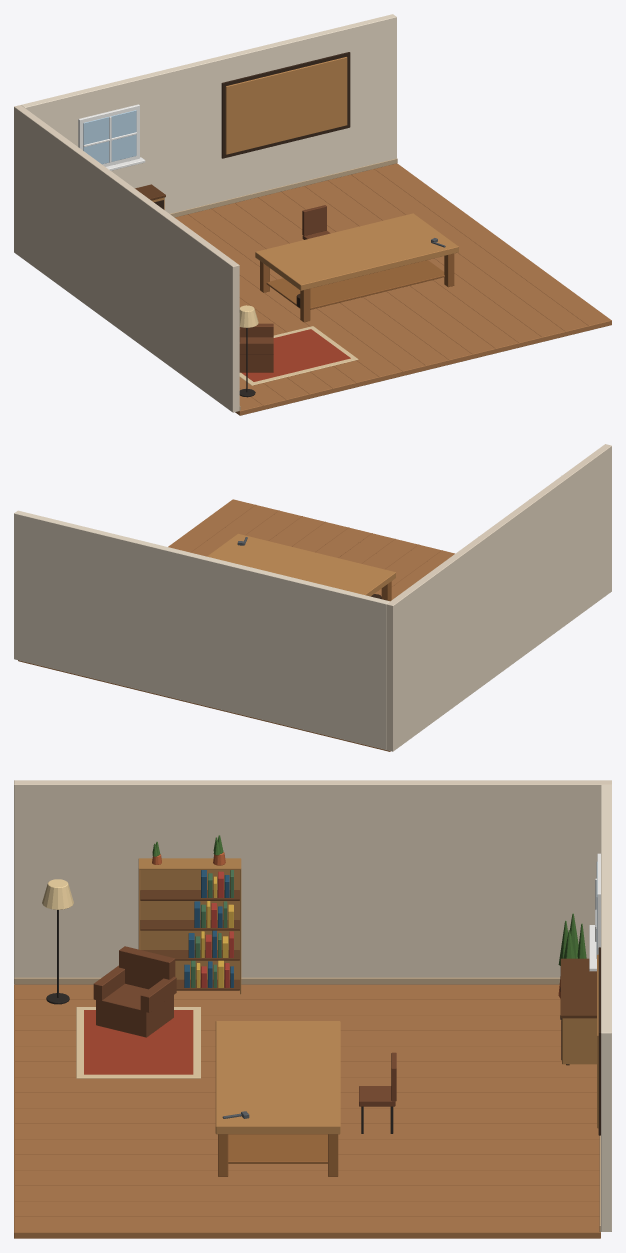
The model's file is room-atelier.glb.
3 renders of one model, top to bottom at view 1: azimuth 30°, elevation 25°; view 2: azimuth 150°, elevation 25°; view 3: azimuth 270°, elevation 25°, orthographic. The views are drawn at different scales.
Parts seen in each view (by area): view 1: room.floor, room.wall, room.wall-north, room.cork, room.bench-top, room.bench, room.rug, room.fabric, room.window, room.plank, room.dark-wood, room.window-frame (+2 smaller); view 2: room.wall-north, room.wall, room.floor, room.bench-top, room.plank; view 3: room.floor, room.wall, room.bench-top, room.fabric, room.plank, decor.shelf.oak, room.rug, room.wall-north, room.bench, room.skirting, decor.shelf.walnut, room.walnut (+10 smaller).
Part boxes in pixels (x1,y1,x2,y2): room.floor: (175,163,611,415); room.wall: (14,105,239,412); room.wall-north: (21,14,396,213); room.cork: (225,57,347,154); room.bench-top: (255,213,458,290); room.bench: (260,253,454,322); room.rug: (241,329,350,381); room.fabric: (239,205,330,372); room.window: (83,110,136,164); room.plank: (188,169,588,405); room.dark-wood: (154,52,350,307); room.window-frame: (78,104,145,170); room.wall-north: (14,510,389,749); room.wall: (386,444,611,751); room.floor: (18,499,454,751); room.bench-top: (207,533,395,596); room.plank: (190,505,442,595); room.floor: (14,984,600,1238); room.wall: (14,780,611,977); room.bench-top: (215,1021,340,1134); room.fabric: (93,946,396,1106); room.plank: (14,999,599,1216); decor.shelf.oak: (138,858,241,994); room.rug: (84,1010,193,1074); room.wall-north: (601,785,611,1231); room.bench: (218,1134,338,1176); room.skirting: (14,977,600,1231); decor.shelf.walnut: (140,890,239,990); room.walnut: (560,958,596,1018).
Size of the model in its own units: 8.15 by 3.1 by 8.15.
